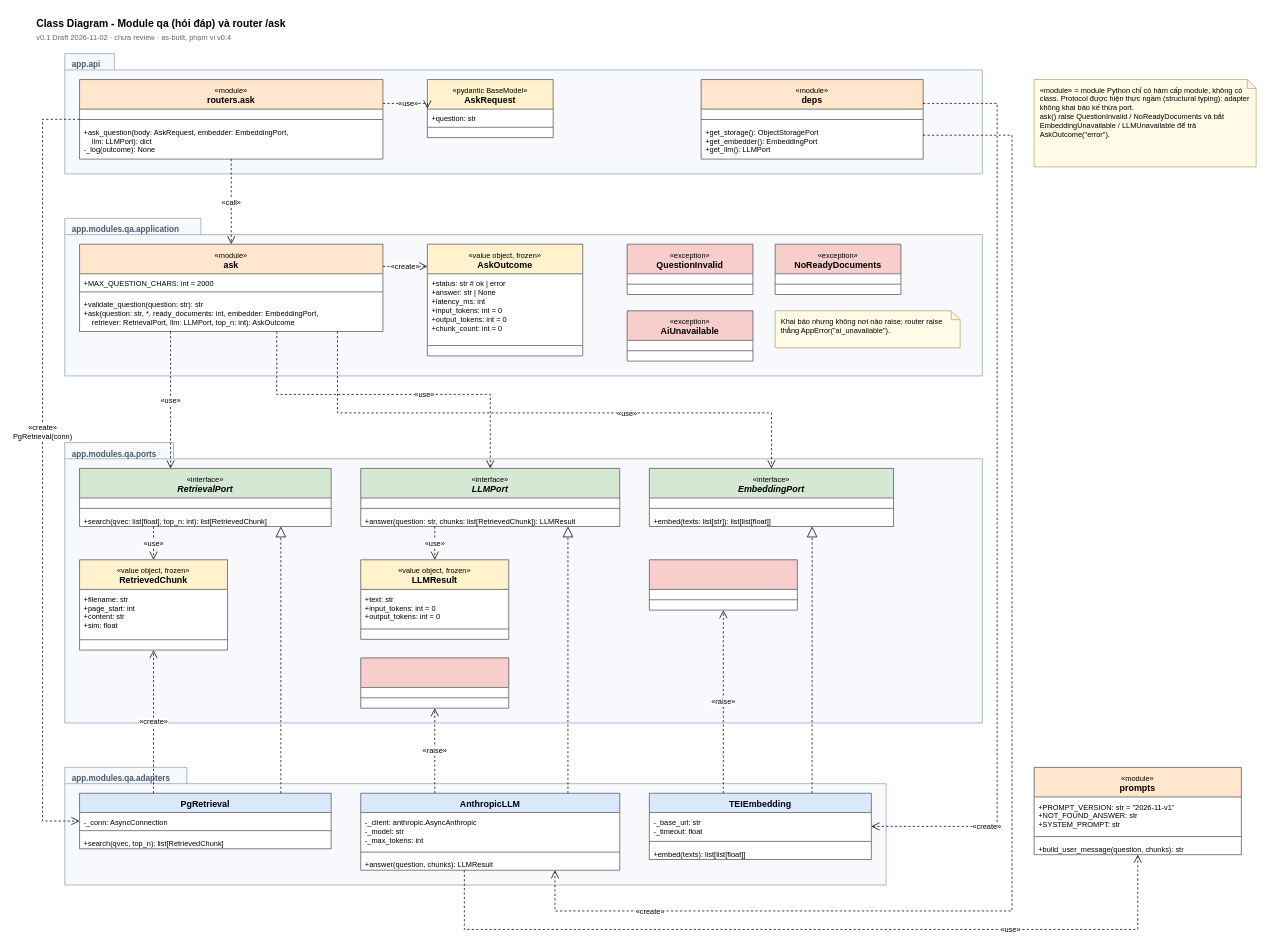
The diagram is 1269 pixels wide and 950 high, and some of its shapes have lost their labels. The centre of each missing label's shape, as x and y in pixels:
«exception» EmbeddingUnavailable: point 723,584
«exception» LLMUnavailable: point 434,682
